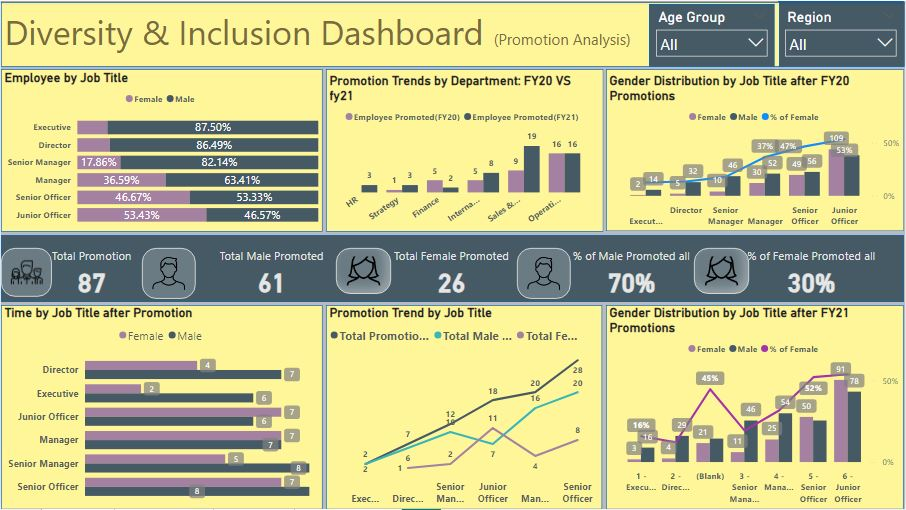

The dashboard page shown, as its layout file describes it:
{"tool":"powerbi","page":{"name":"Promotion","canvas":[1280,720],"ordinal":1},"visuals":[{"type":"shape","box":[1101.8,0,178.2,93.6],"z":0},{"type":"shape","box":[461.2,430.8,391.5,289.6],"z":1000},{"type":"shape","box":[461.2,96.5,393.3,230.6],"z":2000},{"type":"shape","box":[858.1,430.8,421.9,289.6],"z":3000},{"type":"shape","box":[857.6,97,422.4,229.7],"z":4000},{"type":"shape","box":[0,430.8,455.9,289.6],"z":5000},{"type":"shape","box":[0,96.5,455.9,230.6],"z":6000},{"type":"hundredPercentStackedBarChart","title":"Employee by Job Title","fields":{"Y":["CountNonNull(Pharma Group AG.Employee ID)"],"Category":["Pharma Group AG.Job Level after FY20 promotions"],"Series":["Pharma Group AG.Gender"]},"box":[0,97.2,455.5,230.4],"z":7000},{"type":"lineClusteredColumnComboChart","title":"Gender Distribution  by Job Title after FY21 Promotions","fields":{"Category":["Pharma Group AG.Job Level after FY21 promotions"],"Y":["CountNonNull(Pharma Group AG.Employee ID)"],"Y2":["All Measures.% of Female"],"Series":["Pharma Group AG.Gender"]},"box":[858.1,430.8,421.9,289.6],"z":8000},{"type":"lineClusteredColumnComboChart","title":"Gender Distribution  by Job Title after FY20 Promotions","fields":{"Category":["Pharma Group AG.Job Level after FY20 promotions"],"Y":["CountNonNull(Pharma Group AG.Employee ID)"],"Y2":["All Measures.% of Female"],"Series":["Pharma Group AG.Gender"]},"box":[856.9,102.6,423.1,225],"z":9000},{"type":"clusteredBarChart","title":"Time by Job Title after Promotion","fields":{"Y":["Count(Pharma Group AG.Time in Job Level @01.07.2020)"],"Category":["Pharma Group AG.Job Level after FY20 promotions"],"Series":["Pharma Group AG.Gender"]},"box":[0,430.8,455.9,289.6],"z":10000},{"type":"lineChart","title":"Promotion Trend by Job Title","fields":{"Y":["All Measures.Total Promotion(20&21)","All Measures.Total Male Promoted(20&21)","All Measures.Total Female Promoted(20&21)"],"Category":["Pharma Group AG.Job Level after FY20 promotions"]},"box":[461.2,430.8,389.7,289.6],"z":11000},{"type":"shape","box":[0,1.8,1280,91.8],"z":12000},{"type":"textbox","box":[0,0,1280,97.2],"z":13000},{"type":"clusteredColumnChart","title":"Promotion Trends by Department: FY20 VS fy21","fields":{"Category":["Pharma Group AG.Department @01.07.2020"],"Y":["All Measures.Employee Promoted(FY20)","All Measures.Employee Promoted(FY21)"]},"box":[461.2,101.9,389.7,225.3],"z":14000},{"type":"shape","box":[0,331.3,1280,95.4],"z":15000},{"type":"cardVisual","fields":{"Data":["All Measures.Total Promotion(20&21)","All Measures.Total Male Promoted(20&21)","All Measures.Total Female Promoted(20&21)","All Measures.% of Male Promoted all","All Measures.% of Female Promoted all"]},"box":[0,333.1,1280,91.8],"z":16000},{"type":"shape","box":[918.4,4.3,177.9,89],"z":17000},{"type":"shape","box":[1102.1,1.4,177.9,91.8],"z":18000},{"type":"slicer","fields":{"Values":["Pharma Group AG.Broad region group: nationality 1"]},"box":[1101.7,5.8,178.3,77.7],"z":19000},{"type":"slicer","fields":{"Values":["Pharma Group AG.Age group"]},"box":[918.4,5.7,177.9,77.5],"z":20000},{"type":"image","box":[474.8,350.2,77.6,65],"z":21000},{"type":"image","box":[200.4,350.2,75.8,72.2],"z":22000},{"type":"image","box":[0,350.2,72.2,68.6],"z":23000},{"type":"image","box":[982.2,350.1,78,65.2],"z":24000},{"type":"image","box":[731.2,350.2,75.8,72.2],"z":25000}]}

Visuals, with their boxes in screenshot pixels (x1, y1, x2, y2), scaled from the page's 1280x720 canvas onto the 906x510 screenshot:
shape: [x1=780, y1=0, x2=905, y2=66]
shape: [x1=326, y1=305, x2=604, y2=509]
shape: [x1=326, y1=68, x2=605, y2=232]
shape: [x1=607, y1=305, x2=905, y2=509]
shape: [x1=607, y1=69, x2=905, y2=231]
shape: [x1=0, y1=305, x2=323, y2=509]
shape: [x1=0, y1=68, x2=323, y2=232]
"Employee by Job Title" hundredPercentStackedBarChart: [x1=0, y1=69, x2=322, y2=232]
"Gender Distribution  by Job Title after FY21 Promotions" lineClusteredColumnComboChart: [x1=607, y1=305, x2=905, y2=509]
"Gender Distribution  by Job Title after FY20 Promotions" lineClusteredColumnComboChart: [x1=607, y1=73, x2=905, y2=232]
"Time by Job Title after Promotion" clusteredBarChart: [x1=0, y1=305, x2=323, y2=509]
"Promotion Trend by Job Title" lineChart: [x1=326, y1=305, x2=602, y2=509]
shape: [x1=0, y1=1, x2=905, y2=66]
textbox: [x1=0, y1=0, x2=905, y2=69]
"Promotion Trends by Department: FY20 VS fy21" clusteredColumnChart: [x1=326, y1=72, x2=602, y2=232]
shape: [x1=0, y1=235, x2=905, y2=302]
cardVisual - All Measures.Total Promotion(20&21) x All Measures.Total Male Promoted(20&21): [x1=0, y1=236, x2=905, y2=301]
shape: [x1=650, y1=3, x2=776, y2=66]
shape: [x1=780, y1=1, x2=905, y2=66]
slicer - Pharma Group AG.Broad region group: nationality 1: [x1=780, y1=4, x2=905, y2=59]
slicer - Pharma Group AG.Age group: [x1=650, y1=4, x2=776, y2=59]
image: [x1=336, y1=248, x2=391, y2=294]
image: [x1=142, y1=248, x2=195, y2=299]
image: [x1=0, y1=248, x2=51, y2=297]
image: [x1=695, y1=248, x2=750, y2=294]
image: [x1=518, y1=248, x2=571, y2=299]
